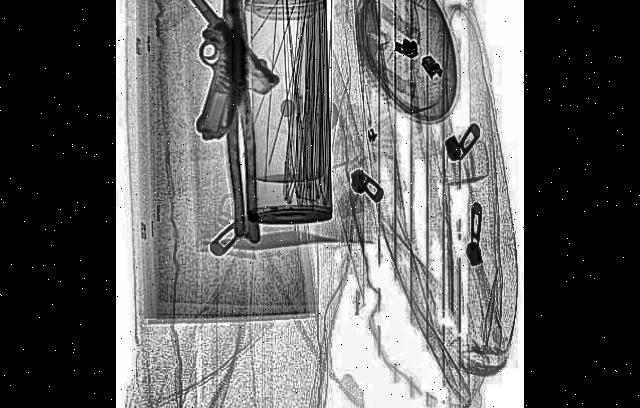Gun: (143, 0, 280, 178)
Pliers: (216, 0, 259, 243)
